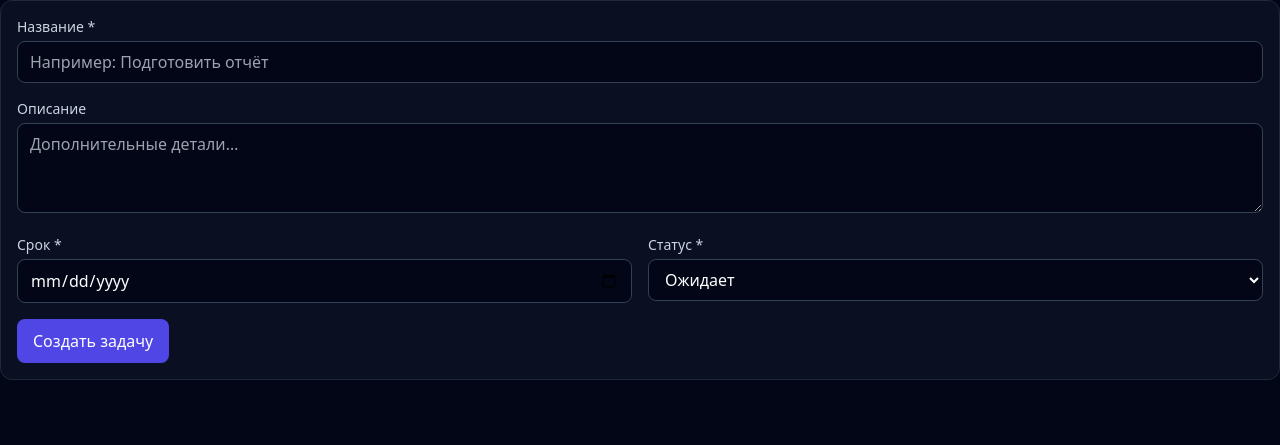
Test: TaskForm › показывает ошибку, если название короче 3 символов
Step 1. Type "ab" into the field with id "task-title" → (640, 62), box [17,41,1263,83]
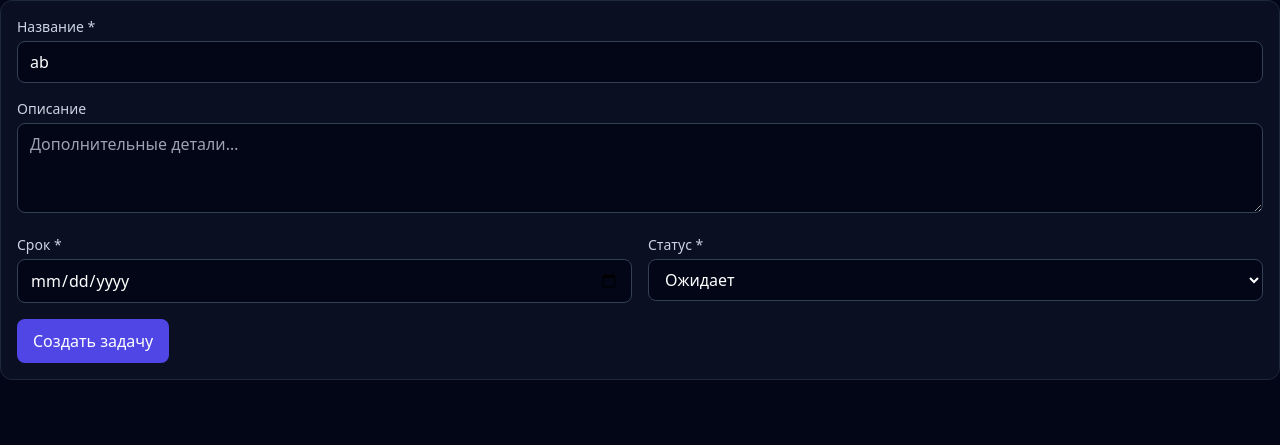
Step 2. Submit the form
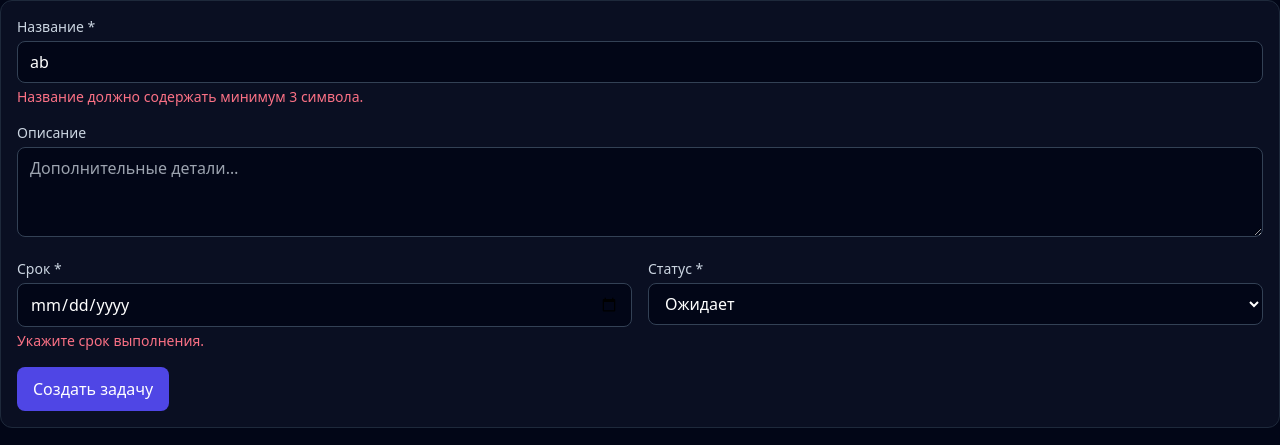
Expected: the form shows "Название должно содержать минимум 3 символа.", [17,87,363,106]
